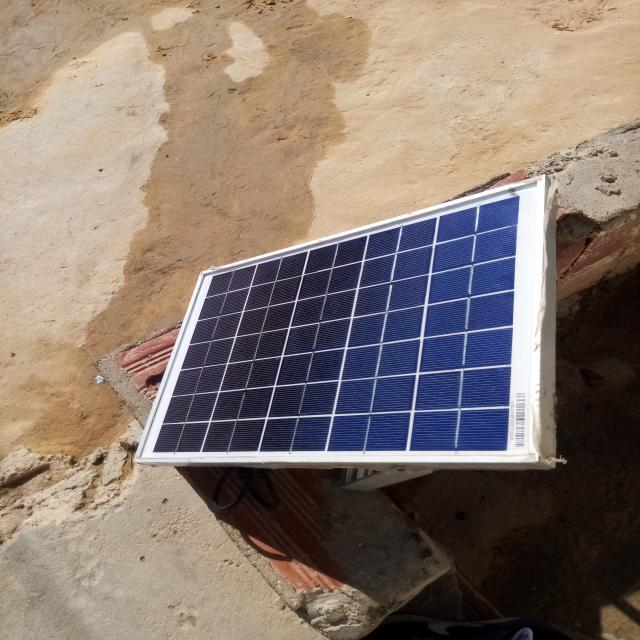no faulty: (135, 178, 546, 463)
